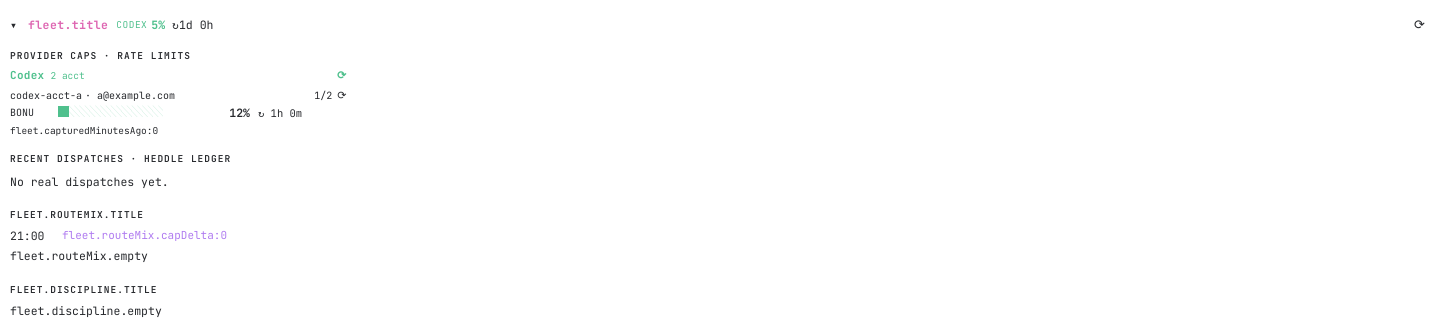
FleetDrawer generalized account cycler (codex) › shows the cycler head for a non-Claude provider, rotates accounts, and updates promoted caplines
The width and height of the screenshot is (1440, 335).
Expected: the text "codex-acct-a" is shown, top-left (10, 89), bottom-right (82, 102)
Expected: the text "1/2" is shown, top-left (314, 89), bottom-right (332, 103)
Click the button named "fleet.rotateAccounts": click(342, 95) top-left (335, 88), bottom-right (348, 102)
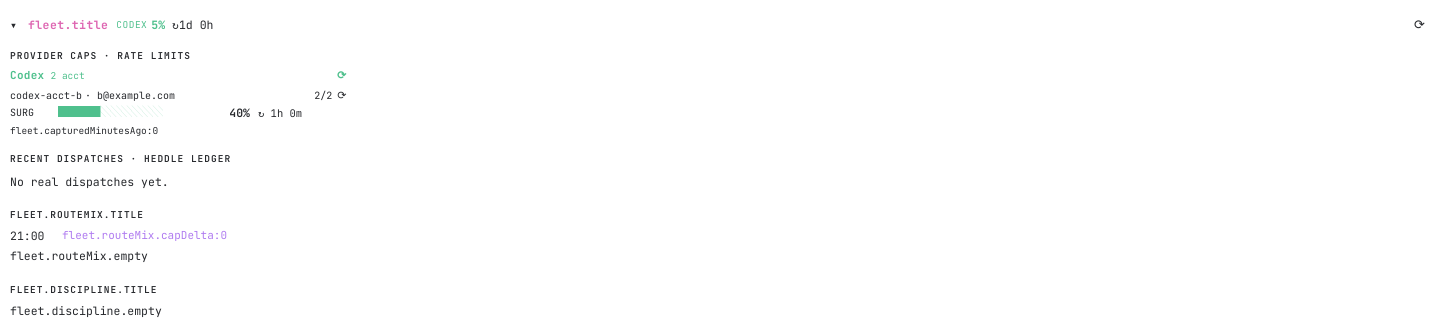
Expected: the text "codex-acct-b" is shown, top-left (10, 89), bottom-right (82, 102)
Expected: the text "2/2" is shown, top-left (314, 89), bottom-right (332, 103)
Expected: the text "SURG" is shown, top-left (10, 106), bottom-right (34, 119)
